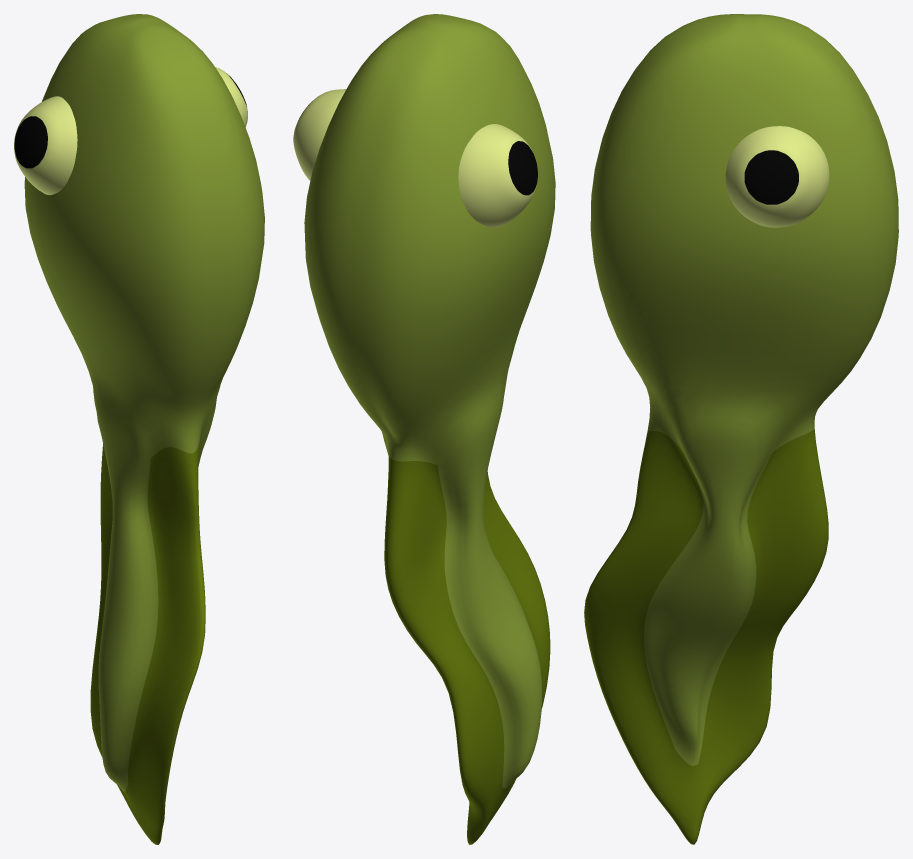
File: buoz2.fbx
3 views of the same model, side by side, from view 1: azimuth 30°, elevation 25°; view 2: azimuth 150°, elevation 25°; view 3: azimuth 270°, elevation 25° (orthographic). The views are drawn at different scales.
Parts seen in each view (by area): view 1: buozgalvis; view 2: buozgalvis; view 3: buozgalvis.
Part boxes in pixels (x1,y1,x2,y2): buozgalvis: [14, 14, 264, 844]; buozgalvis: [293, 14, 555, 844]; buozgalvis: [584, 14, 898, 844].
Bounding box in the file's own units: 122 × 425 × 146.
